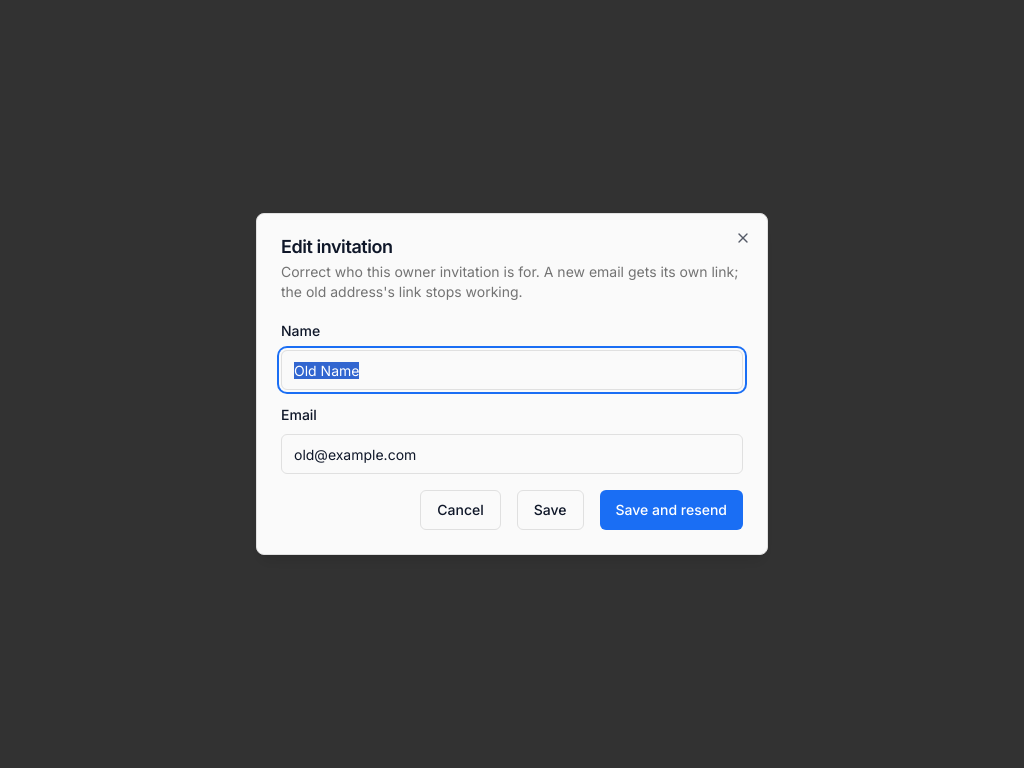
Test case: editing an invitation › does not offer a role or station for the owner's invitation, and refuses an invalid email
Replace the text in the field labelled "Email" with "not-an-email" at (512, 454), box [281,434,743,474]
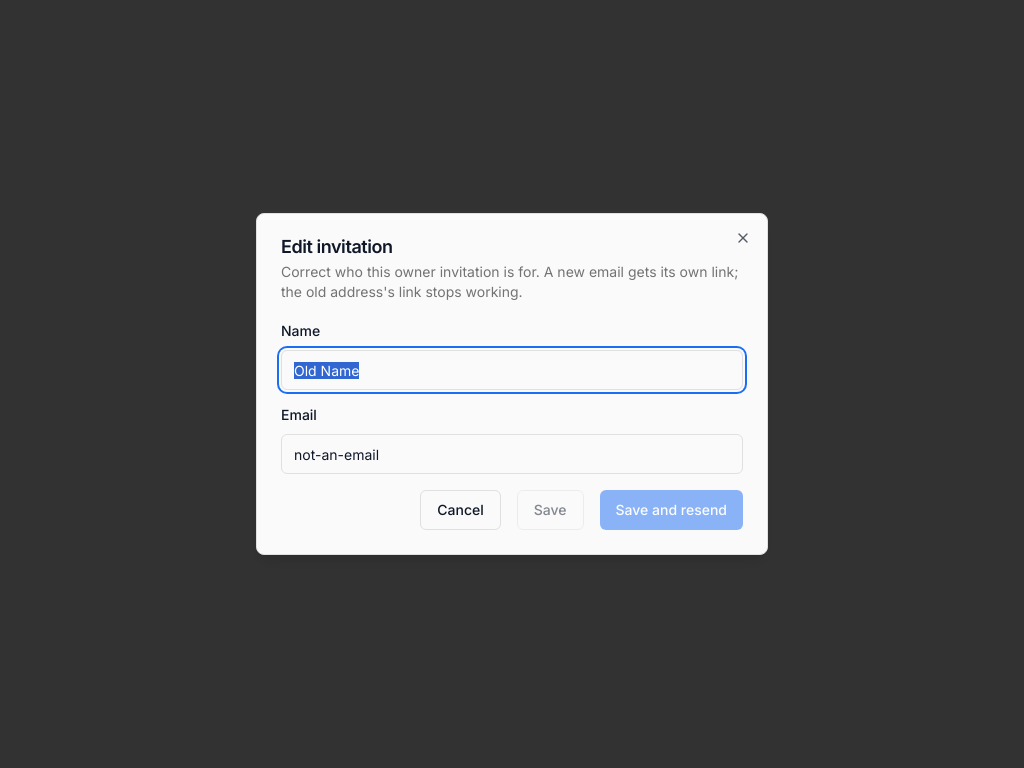
Expected: the button "Save and resend" is disabled, [600,490,743,530]
